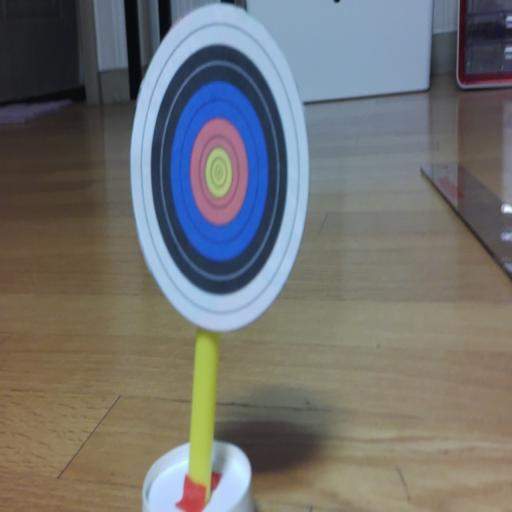target: (130, 4, 309, 331)
